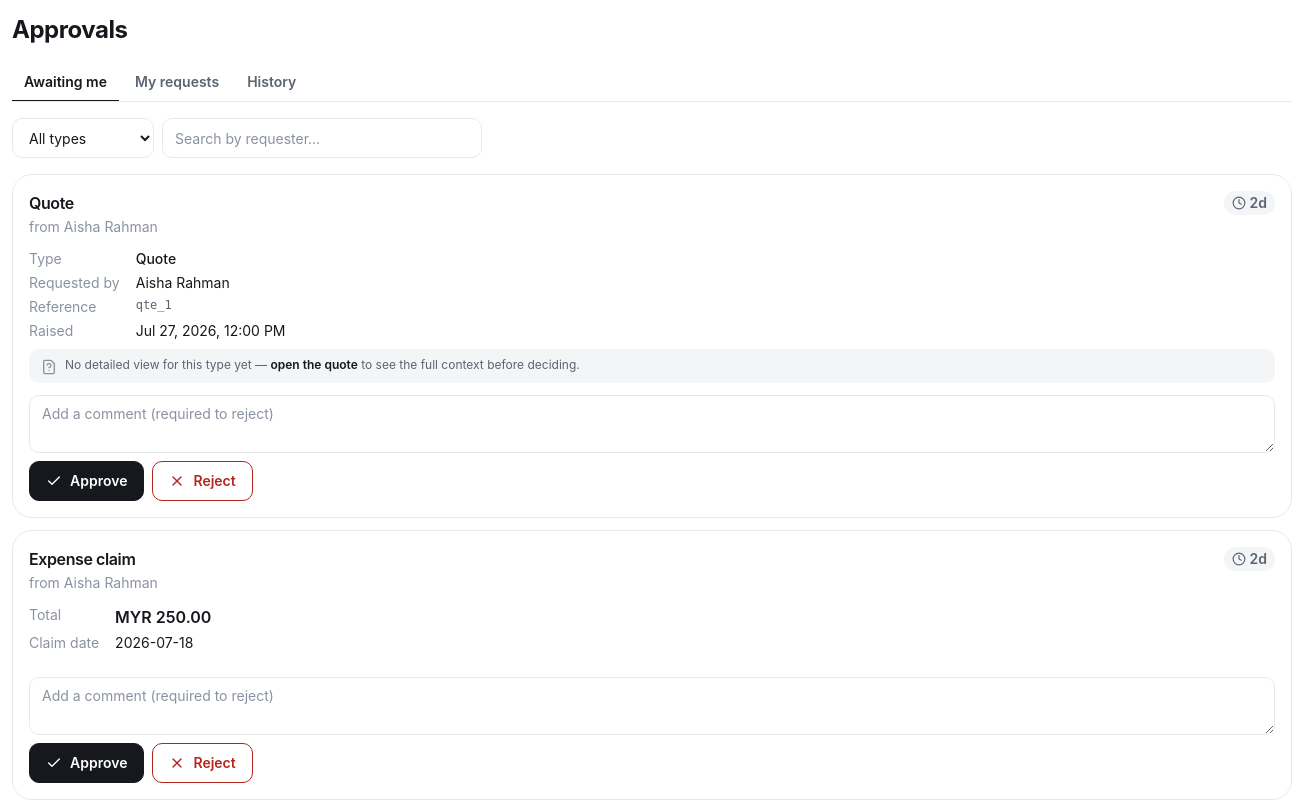
Test: filters › filters by type
Expected: the text "qte_1" is shown, left=136, top=298, right=172, bottom=312
Select "Expense claim" in the dropdown named "Filter by type": (83, 138) left=12, top=118, right=154, bottom=158
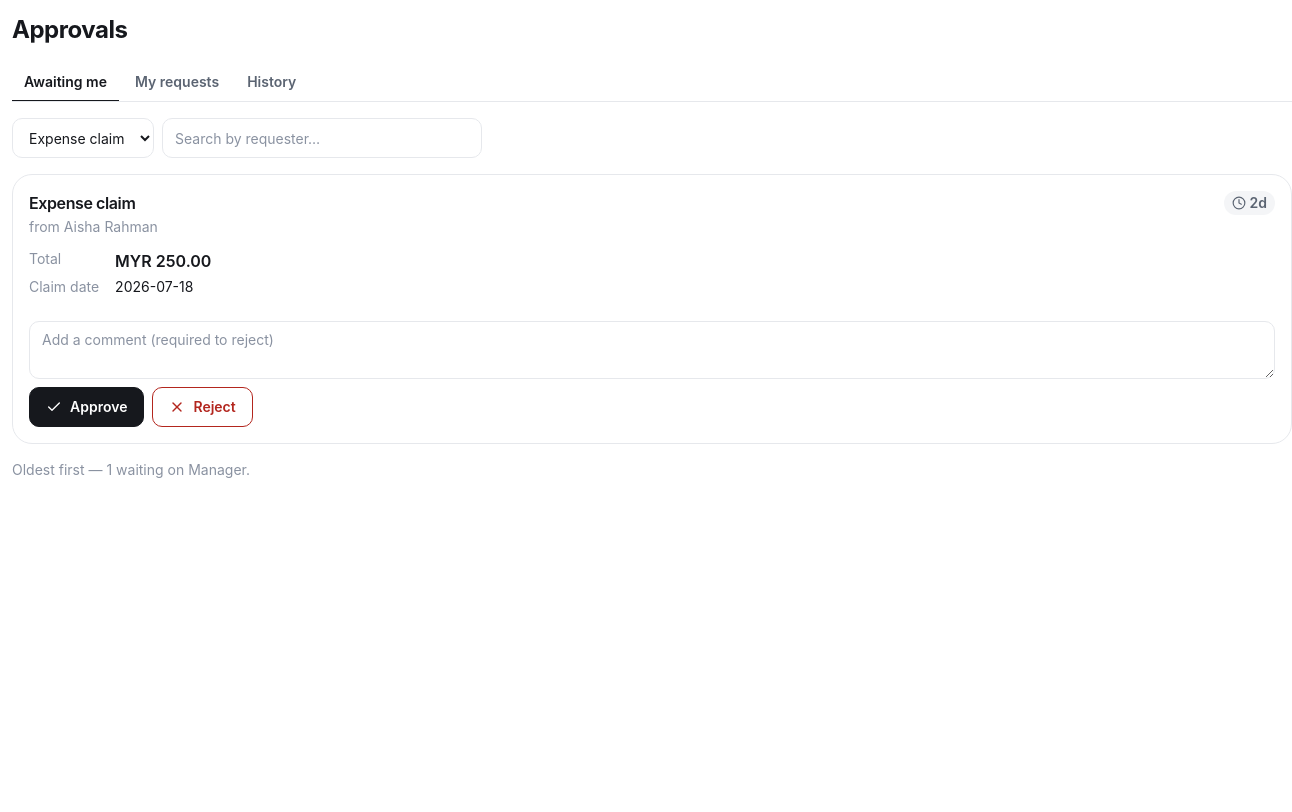
Expected: the heading "Expense claim" is shown, left=29, top=193, right=135, bottom=213
Now the text "qte_1" is gone
